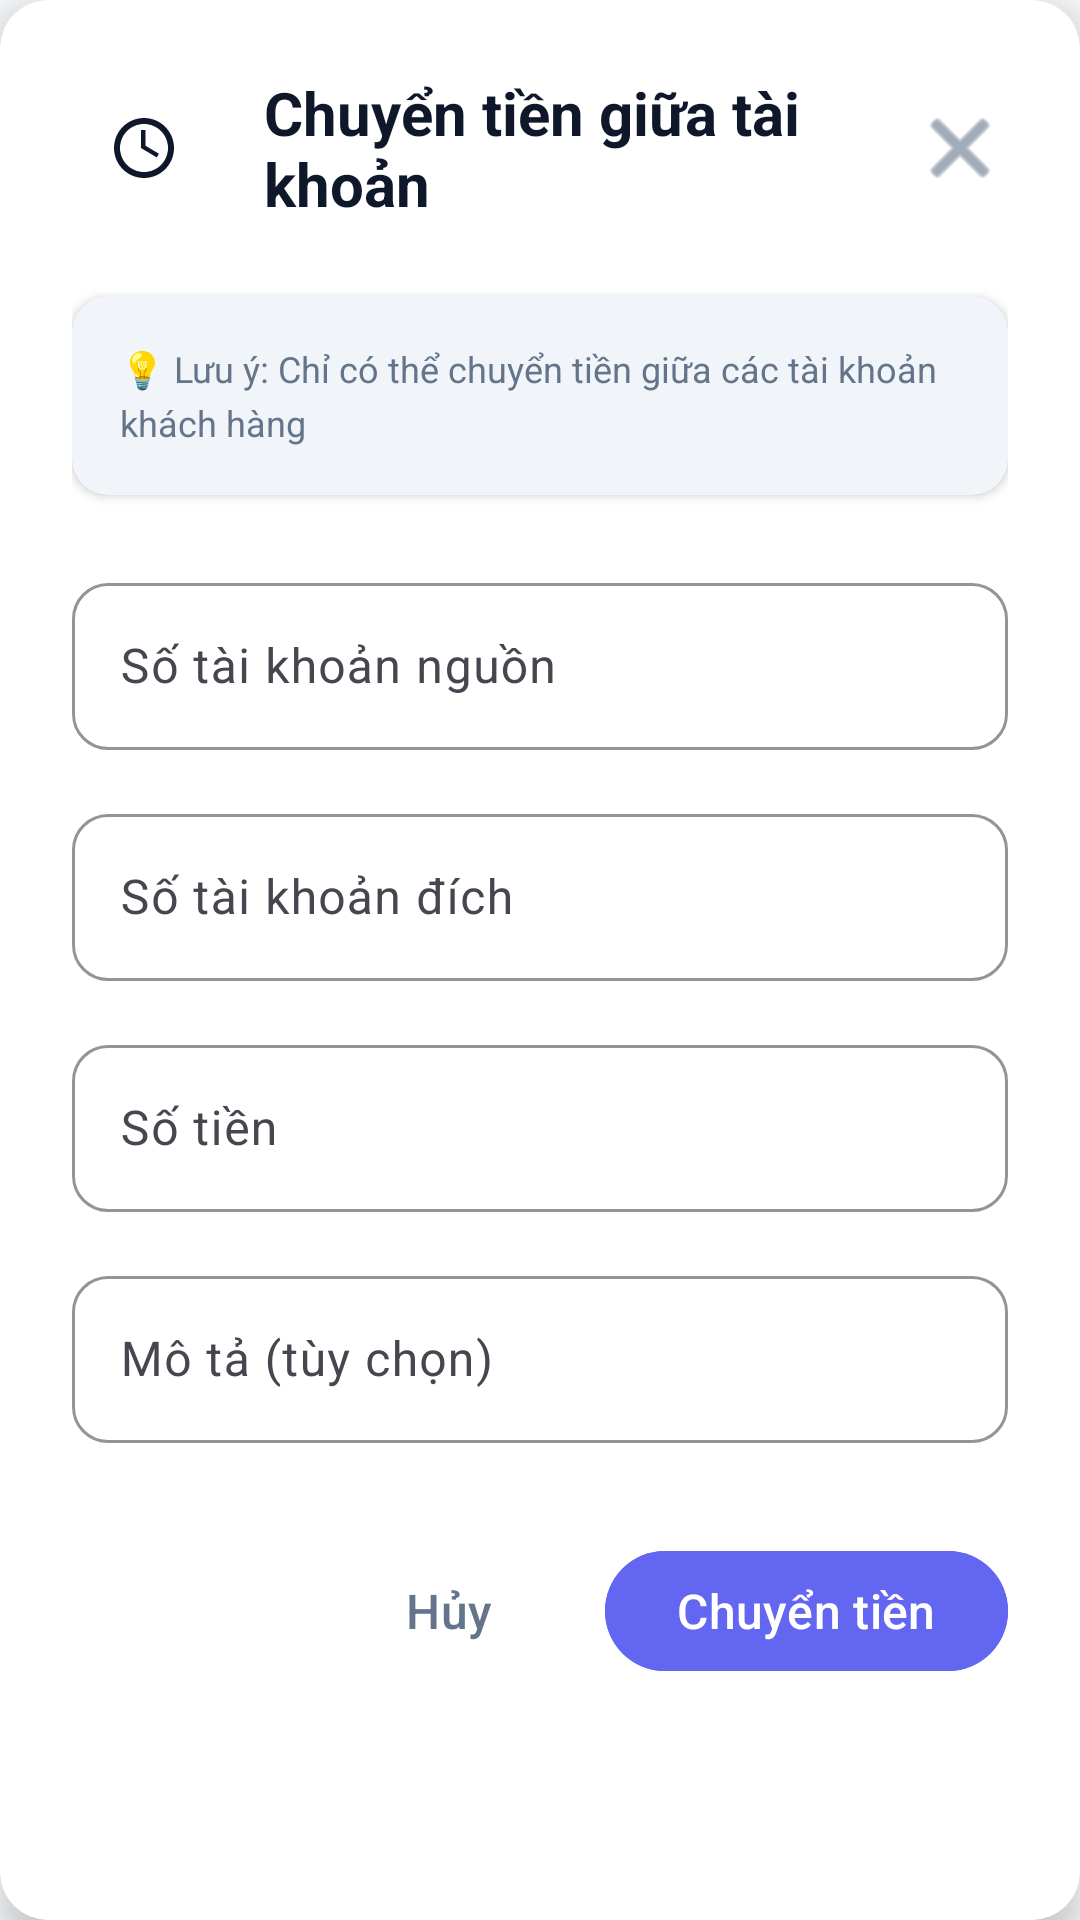

Where to tap for icons on this 1080px×1920px app screen, as [x,y]:
Đóng: [960,148]
